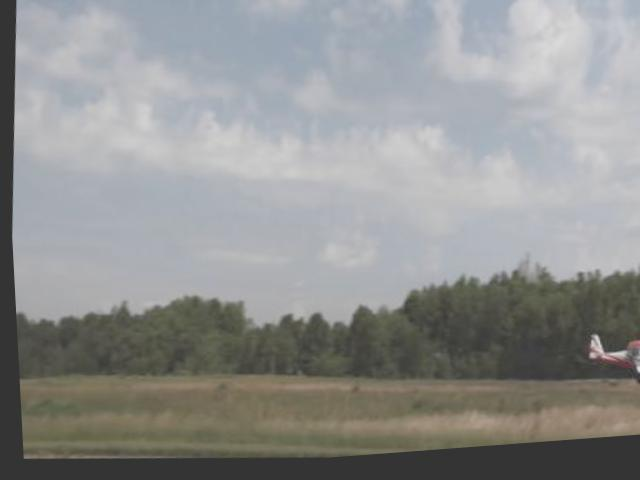uav: (574, 330, 640, 403)
